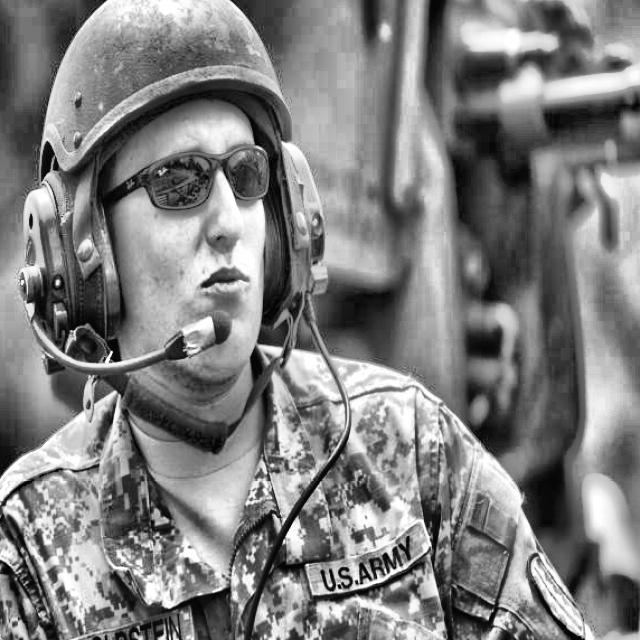Helmet: (17, 0, 330, 460)
